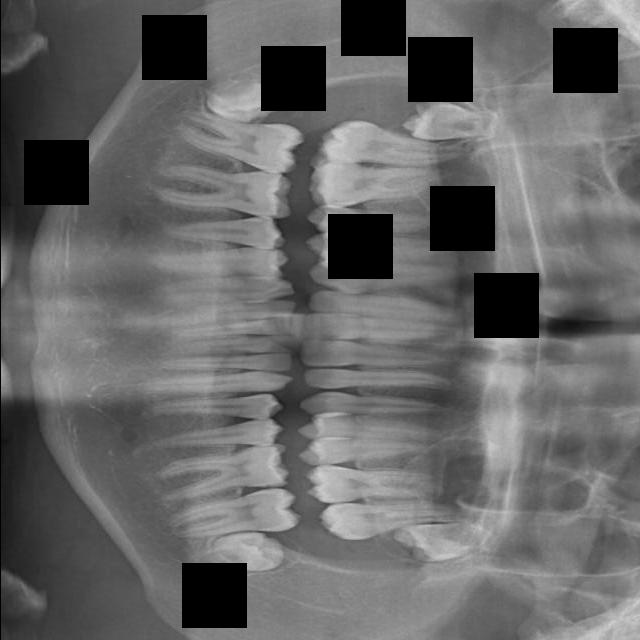3M ESPE Implant: (399, 97, 507, 141)
AGS Medikal Implant: (214, 517, 215, 518)
AMerOss Implant: (150, 442, 294, 506)
Amalgam filling: (307, 113, 484, 170)
Anthogyr Implant: (131, 416, 289, 459)
Bicon Implant: (142, 392, 289, 425)
BioHorizons Implant: (135, 372, 296, 394)
BioLife Implant: (149, 354, 292, 372)
Biomet 3i Implant: (144, 336, 289, 356)
Blue Sky Bio Implant: (159, 321, 296, 340)
Camlog Implant: (140, 299, 298, 324)
Caries: (302, 367, 464, 392)
Composite filling: (143, 277, 295, 307)
Cowellmedi Implant: (139, 245, 291, 284)
Crown: (156, 217, 282, 253)
DENTSPLY Implant: (384, 188, 386, 188)
Dentatus Implant: (146, 159, 296, 224)
Dentis Implant: (162, 105, 307, 178)
Dentium Implant: (195, 77, 291, 122)
Euroteknika Implant: (302, 202, 466, 245)
Filling: (299, 231, 480, 267)
Frontier Implant: (305, 258, 489, 295)
Hiossen Implant: (297, 387, 482, 417)
Implant: (298, 310, 467, 349)
Implant Direct: (303, 287, 473, 326)
Keystone Dental Implant: (295, 335, 459, 366)
MIS Implant: (293, 413, 464, 444)
Mandible: (294, 427, 462, 468)
Maxilla: (303, 460, 445, 505)
Megagen Implant: (316, 500, 460, 545)
Neodent Implant: (392, 519, 494, 570)
Neoss Implant: (205, 530, 292, 580)
